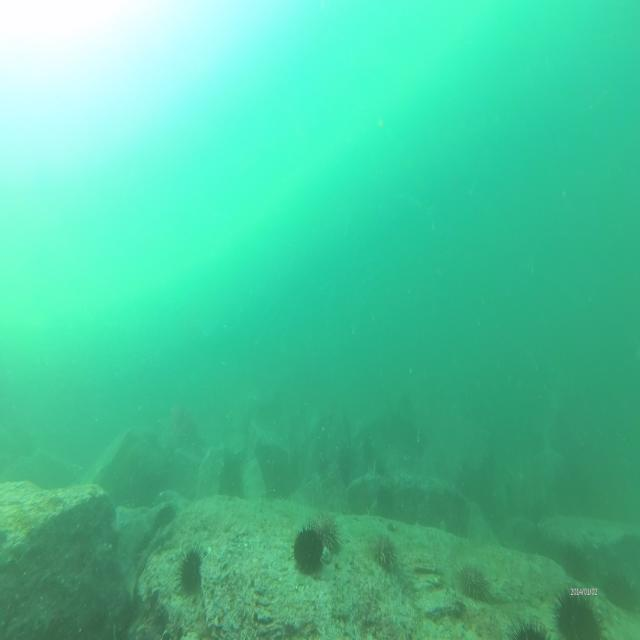echinus: (556, 582, 597, 639), (292, 524, 322, 578), (177, 544, 204, 594), (371, 529, 400, 573), (461, 559, 490, 602), (315, 511, 341, 557), (153, 504, 176, 534)
